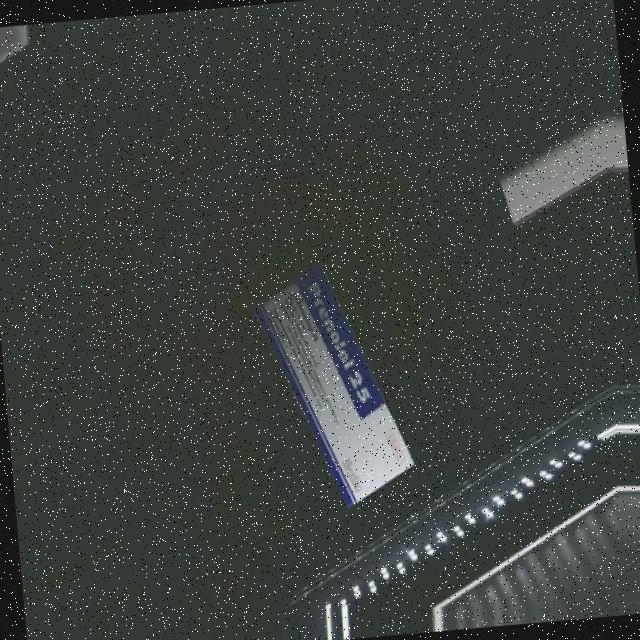prenolol: (253, 259, 417, 515)
